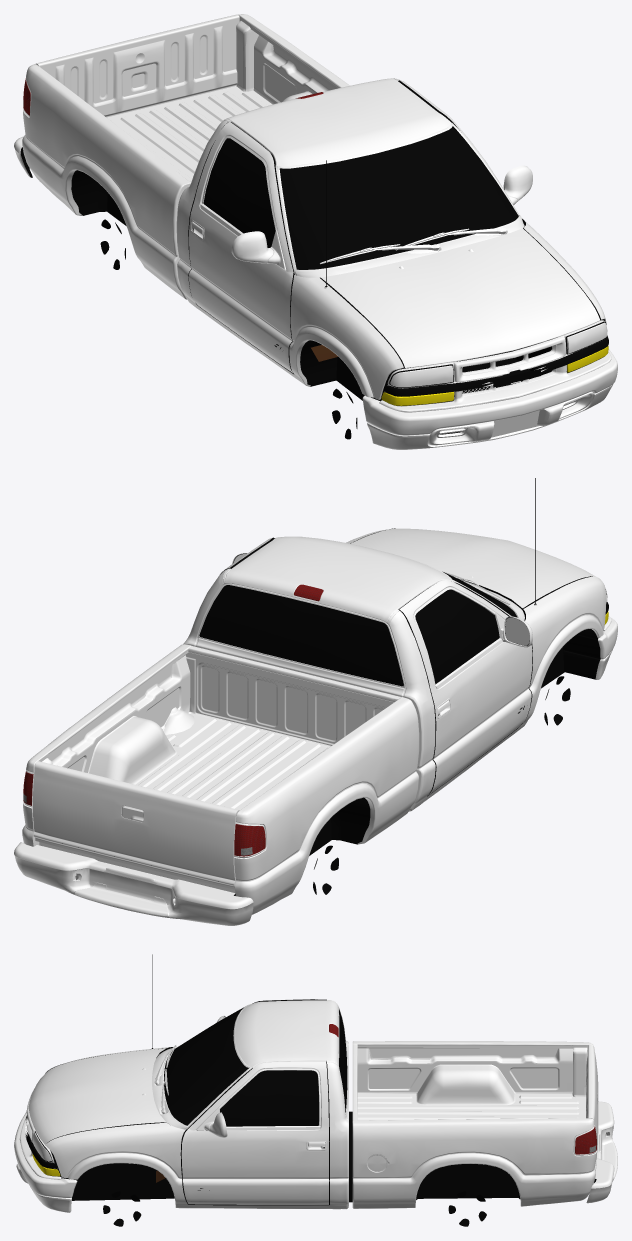
3 renders of one model, top to bottom at view 1: azimuth 30°, elevation 25°; view 2: azimuth 150°, elevation 25°; view 3: azimuth 270°, elevation 25°, orthographic. The views are drawn at different scales.
Visible parts, largest first — view 1: wlights01; view 2: wlights01; view 3: wlights01.
Part boxes in pixels (x1,y1,x2,y2): wlights01: (14, 14, 617, 449); wlights01: (14, 478, 617, 925); wlights01: (14, 954, 617, 1226).
Size of the model in its own units: 2.14 by 1.79 by 5.
Materials: 19 (2 with a texture image).
